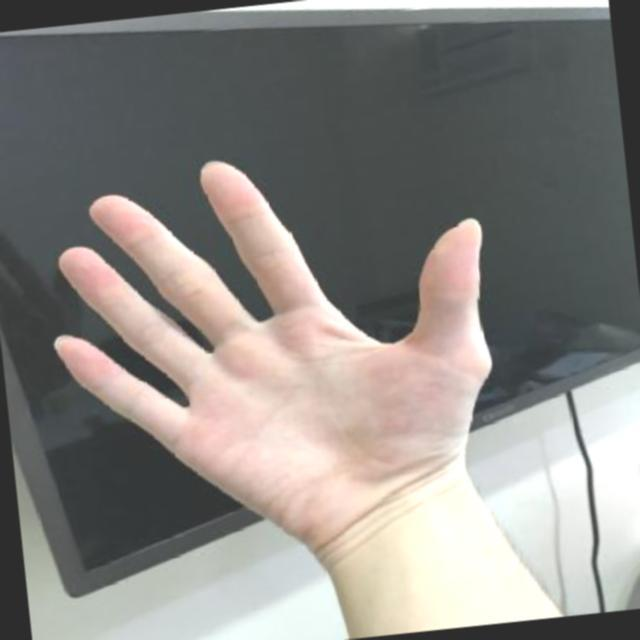hand: (24, 124, 522, 581)
